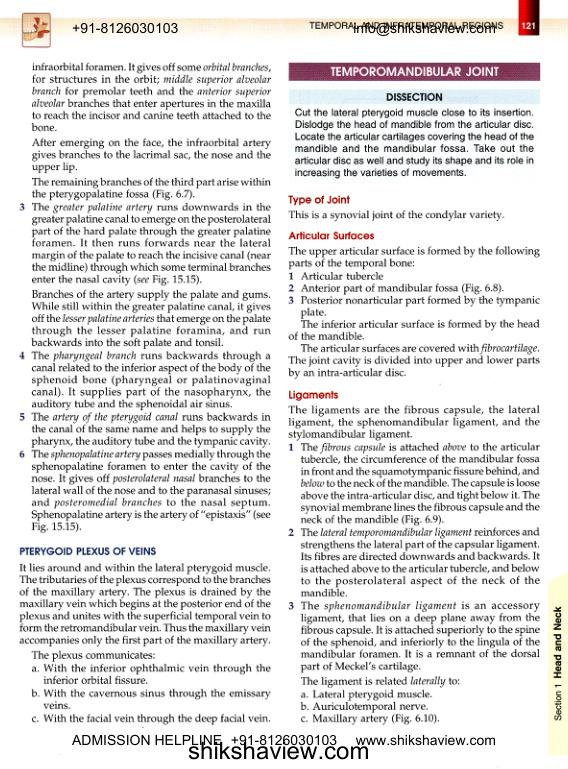caption: (385, 91, 444, 102)
header: (307, 20, 504, 29)
list: (17, 60, 272, 534), (287, 442, 541, 726), (31, 663, 272, 726), (287, 271, 541, 318)
section-heading: (329, 65, 501, 77)
sub-section-heading: (18, 545, 157, 558), (287, 230, 375, 241), (287, 194, 351, 207), (287, 389, 339, 402)
text: (18, 562, 272, 662), (293, 106, 536, 180), (287, 319, 541, 380), (287, 404, 541, 442), (286, 245, 540, 269), (287, 209, 505, 223)
